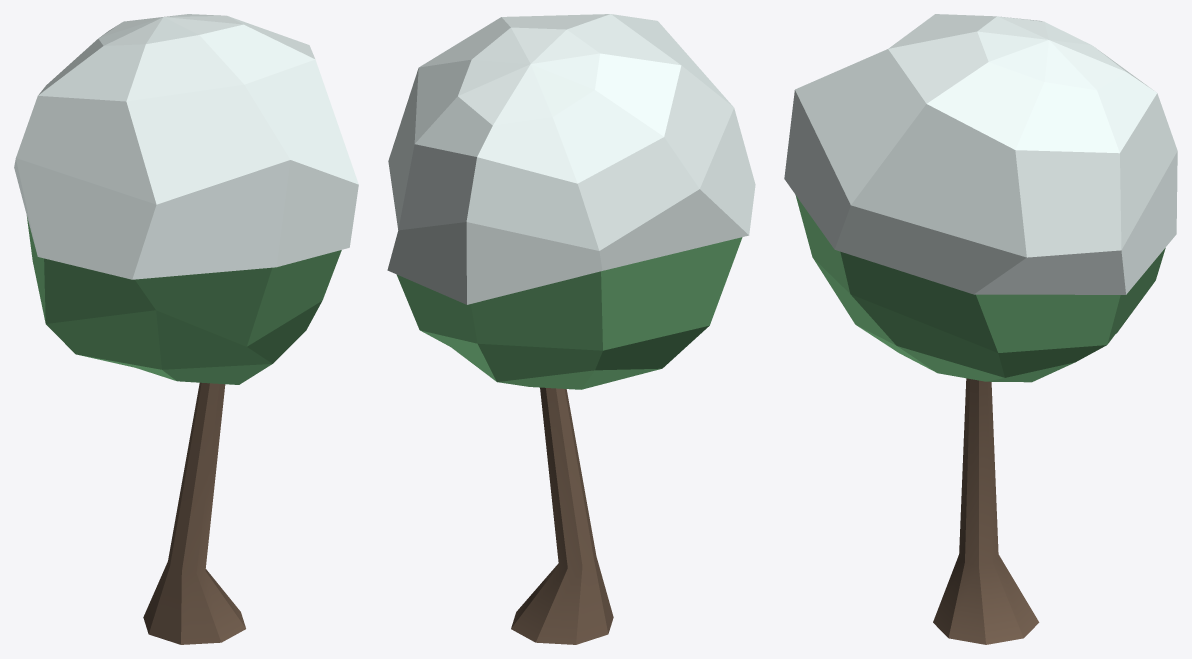
Rendered from Shrub.fbx.
The picture shows the model from 3 angles, left to right: view 1: azimuth 30°, elevation 25°; view 2: azimuth 150°, elevation 25°; view 3: azimuth 270°, elevation 25°; orthographic projection.
Visible parts, largest first — view 1: pSphere2; view 2: pSphere2; view 3: pSphere2.
Part boxes in pixels (<box>): pSphere2: <box>14,14,358,644</box>; pSphere2: <box>387,14,755,644</box>; pSphere2: <box>784,14,1177,644</box>.
Bounding box in the file's own units: 5.98 × 10.36 × 6.25.
